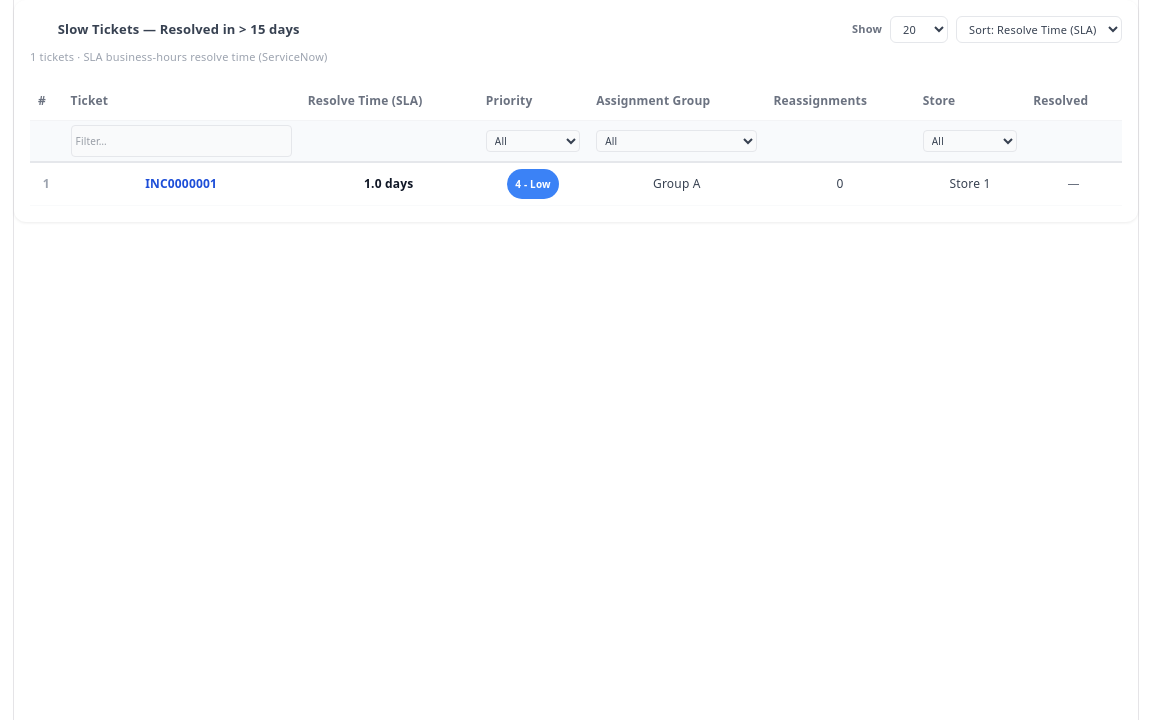
Test case: Top20SlowTickets › shows Clear filters button when a filter is active
Type "X" into the field with placeholder "Filter…".
click(181, 141); type("X")  # box [71,125,292,157]
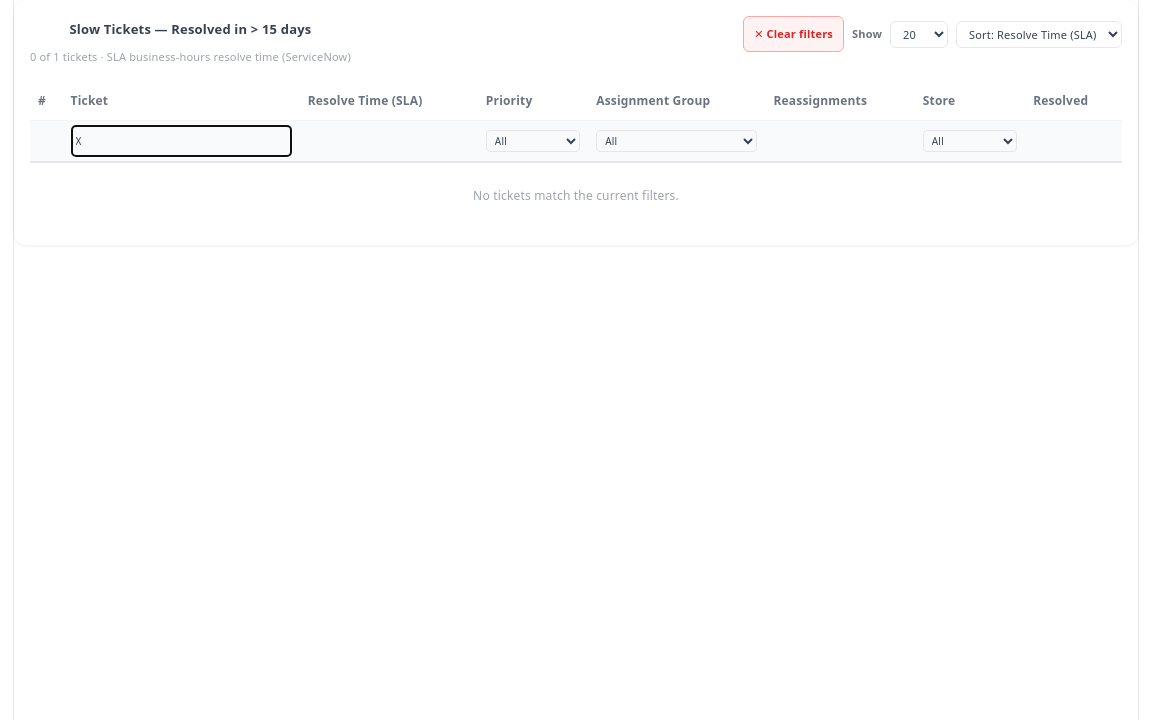
Now the button "✕ Clear filters" is shown, box [743,16,844,52]
